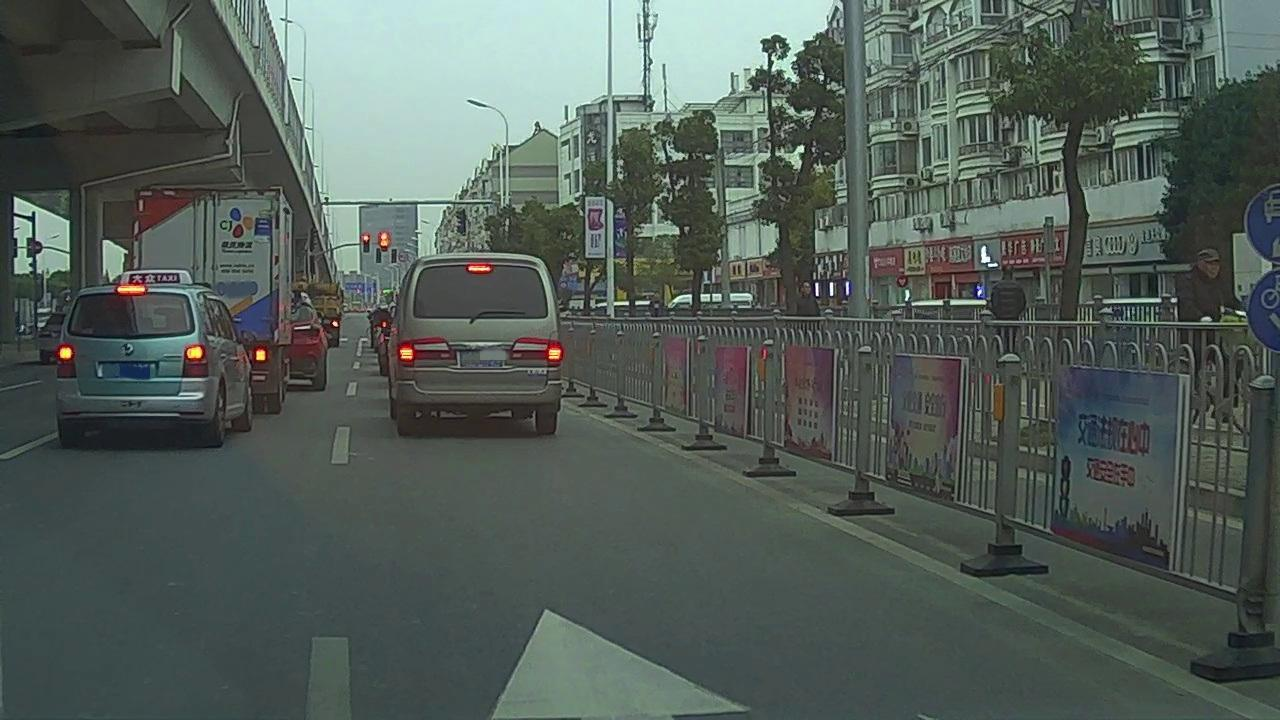traffic_light: (363, 234, 370, 251), (381, 233, 388, 250)
